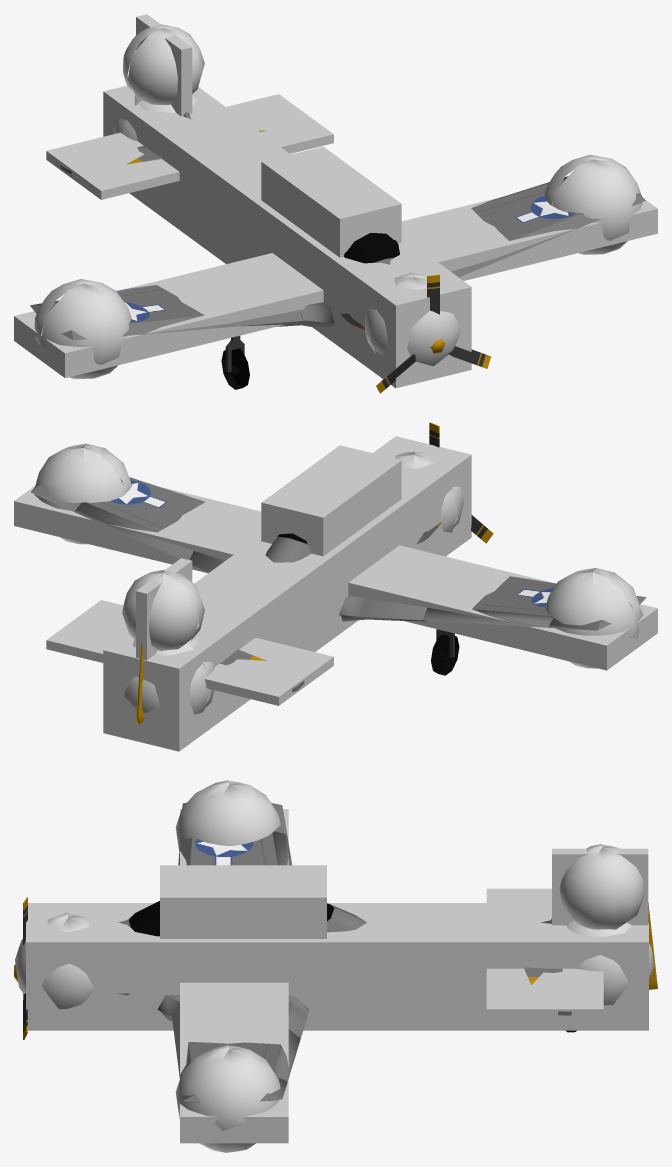
The model's file is airplane-ww2-collision-scaled.glb.
3 renders of one model, top to bottom at view 1: azimuth 30°, elevation 25°; view 2: azimuth 150°, elevation 25°; view 3: azimuth 270°, elevation 25°, orthographic. The views are drawn at different scales.
Visible parts, largest first — view 1: Cube.008, Cube.013, fuz, Cube.009, Cube.011, Sphere.002, Sphere.003, Sphere.004, Sphere.001, Cube.010, prop, wheel1 (+1 smaller); view 2: Cube.008, Cube.013, Cube.009, fuz, Cube.011, Sphere.002, Sphere.003, Sphere.004, Sphere.000, Cube.010, aeriL, aeirR (+3 smaller); view 3: Cube.008, Cube.009, Cube.013, fuz, Cube.011, Sphere.003, Sphere.004, Sphere.002, Sphere.001, Cube.010, Sphere.000, aeriL.
Part boxes in pixels (left/top/right/bottom): Cube.008: left=103, top=85, right=471, bottom=388; Cube.013: left=14, top=197, right=657, bottom=378; fuz: left=30, top=111, right=645, bottom=372; Cube.009: left=261, top=146, right=401, bottom=257; Cube.011: left=46, top=94, right=333, bottom=199; Sphere.002: left=34, top=279, right=131, bottom=379; Sphere.003: left=544, top=154, right=642, bottom=254; Sphere.004: left=123, top=24, right=204, bottom=104; Sphere.001: left=365, top=272, right=461, bottom=366; Cube.010: left=136, top=14, right=192, bottom=116; prop: left=376, top=274, right=491, bottom=393; wheel1: left=221, top=348, right=249, bottom=389; Cube.008: left=103, top=436, right=471, bottom=751; Cube.013: left=14, top=486, right=657, bottom=670; Cube.009: left=261, top=445, right=401, bottom=556; fuz: left=31, top=477, right=646, bottom=692; Cube.011: left=46, top=600, right=333, bottom=705; Sphere.002: left=545, top=568, right=643, bottom=668; Sphere.003: left=34, top=443, right=132, bottom=544; Sphere.004: left=122, top=569, right=204, bottom=650; Sphere.000: left=124, top=638, right=214, bottom=714; Cube.010: left=136, top=558, right=192, bottom=660; aeriL: left=75, top=502, right=193, bottom=559; aeirR: left=423, top=608, right=553, bottom=627; Cube.008: left=26, top=903, right=648, bottom=1030; Cube.009: left=160, top=865, right=326, bottom=938; Cube.013: left=180, top=809, right=288, bottom=1143; fuz: left=118, top=802, right=571, bottom=1102; Cube.011: left=486, top=888, right=603, bottom=1018; Sphere.003: left=175, top=1045, right=280, bottom=1152; Sphere.004: left=559, top=844, right=644, bottom=929; Sphere.002: left=175, top=780, right=280, bottom=850; Sphere.001: left=15, top=912, right=93, bottom=1009; Cube.010: left=552, top=848, right=648, bottom=925; Sphere.000: left=566, top=920, right=654, bottom=1005; aeriL: left=273, top=1029, right=300, bottom=1082.
Bounding box in the file's own units: 3.28 × 1.07 × 2.88.
Materials: 4 (1 with a texture image).
